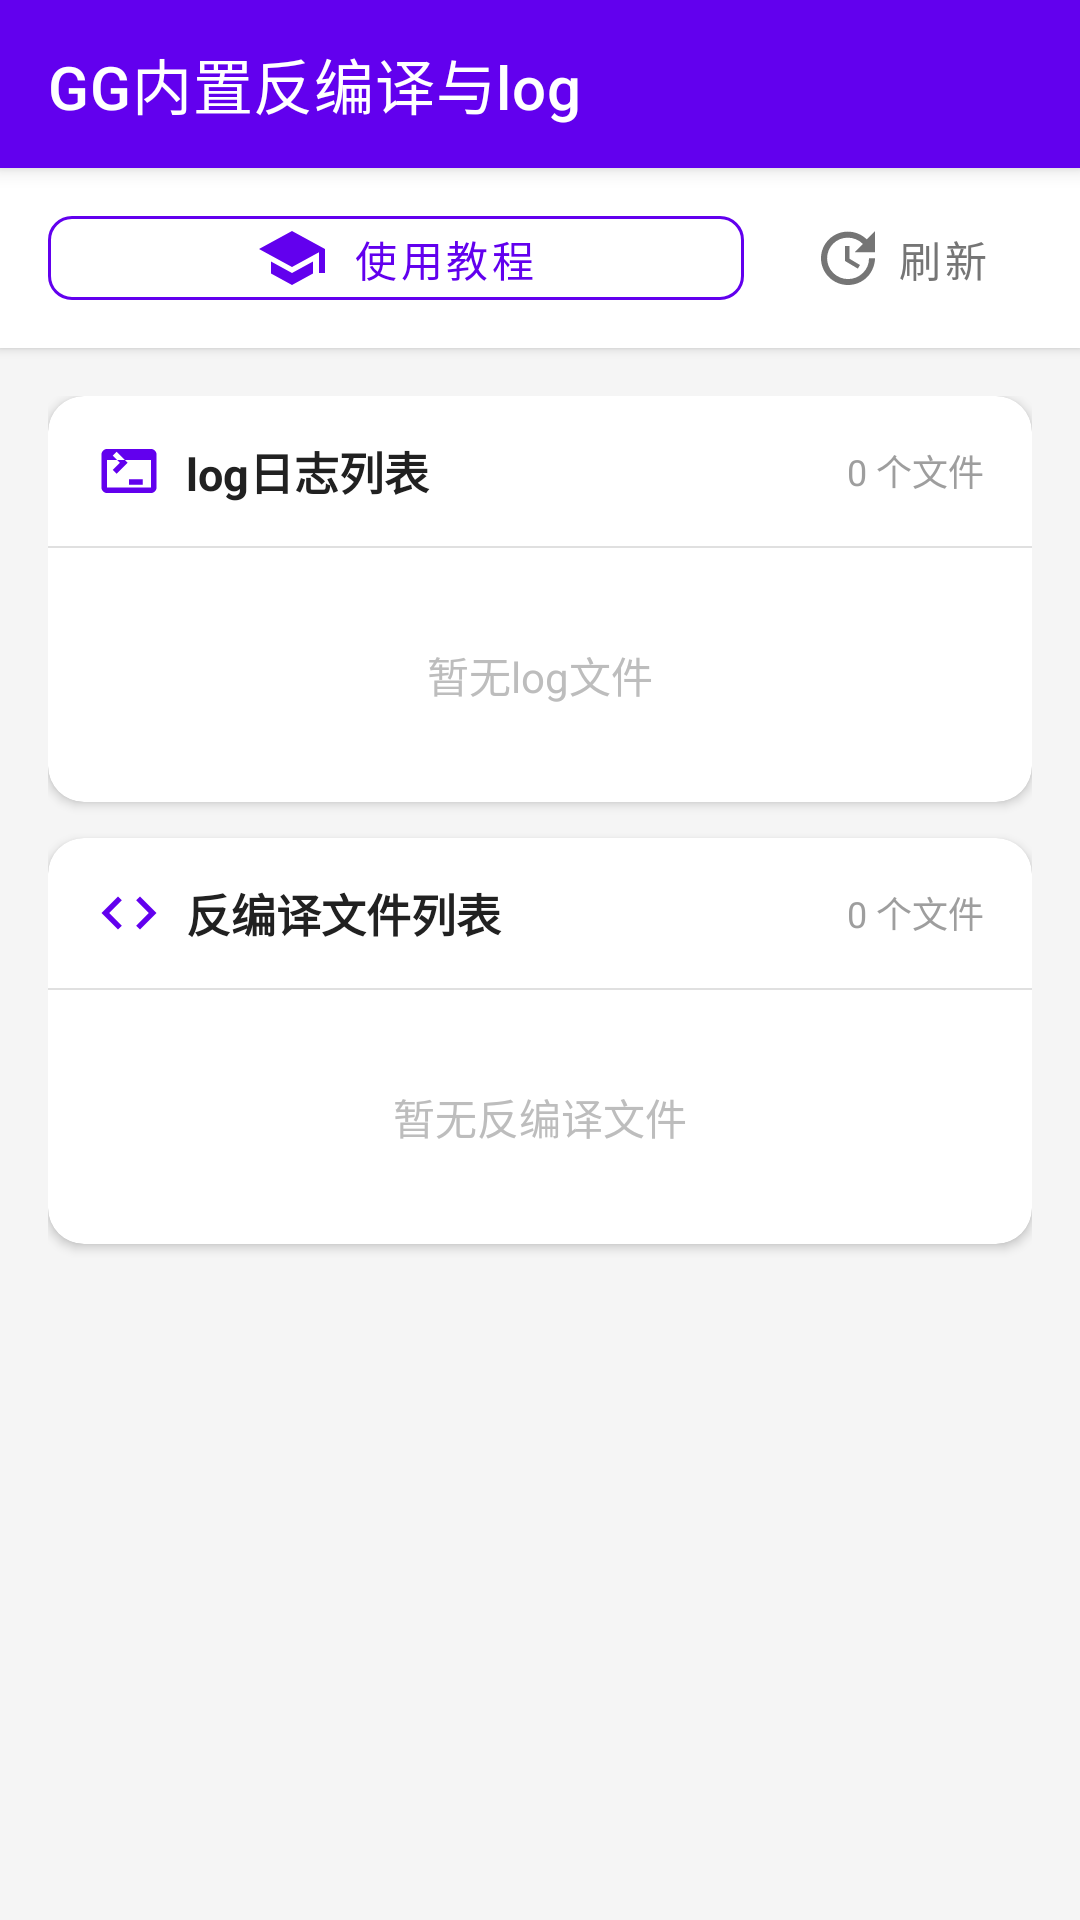

Icons on this 1080 x 1920 Android screen, each with its box as detection(x1, y1, x2, y2):
code: detection(101, 896, 157, 930)
console: detection(101, 449, 157, 493)
